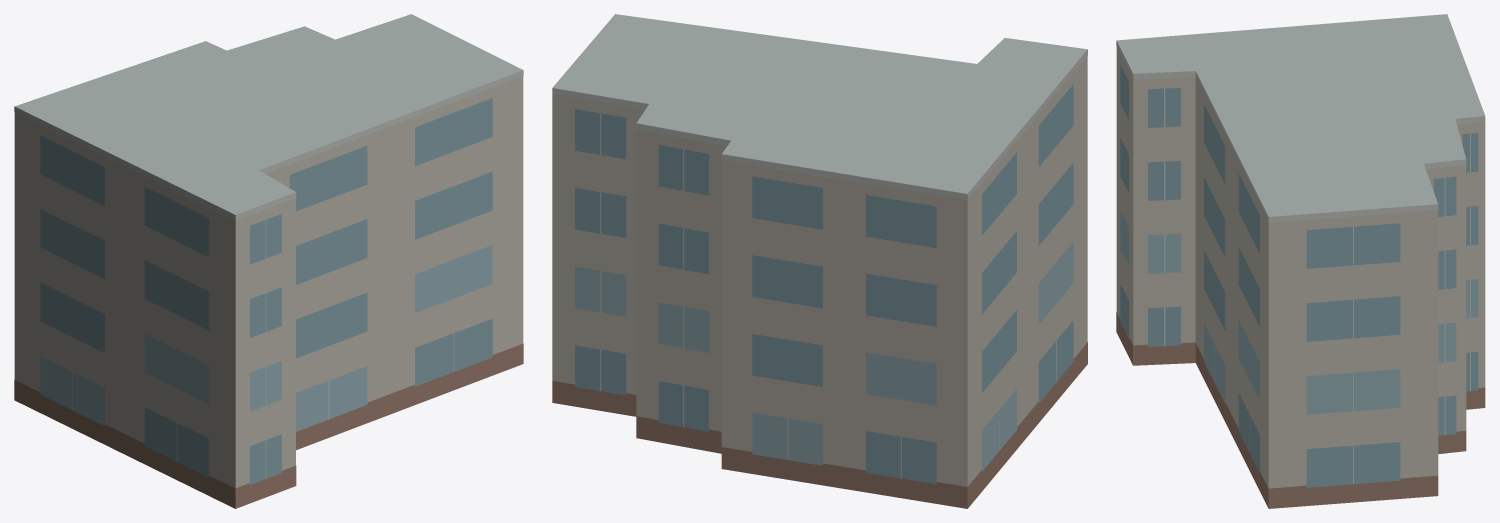
Rendered from survey-upis-32512730.glb.
3 views of the same model, side by side, from view 1: azimuth 30°, elevation 25°; view 2: azimuth 150°, elevation 25°; view 3: azimuth 270°, elevation 25° (orthographic). The views are drawn at different scales.
Parts seen in each view (by area): view 1: survey-upis-32512730.tmp; view 2: survey-upis-32512730.tmp; view 3: survey-upis-32512730.tmp.
Boxes of the visible parts, <box> form: survey-upis-32512730.tmp: <box>14,14,523,508</box>; survey-upis-32512730.tmp: <box>552,14,1087,508</box>; survey-upis-32512730.tmp: <box>1116,14,1485,508</box>.
Bounding box in the file's own units: 18.21 × 12.2 × 13.98.
